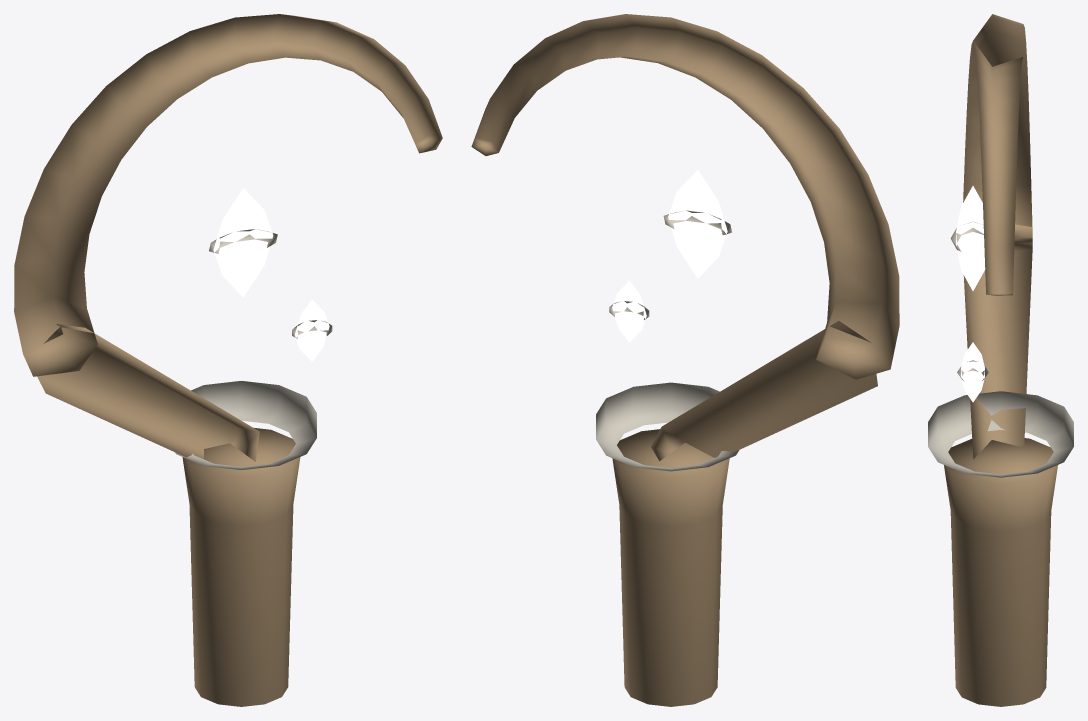
File: head_uncommon.glb
3 views of the same model, side by side, from view 1: azimuth 30°, elevation 25°; view 2: azimuth 150°, elevation 25°; view 3: azimuth 270°, elevation 25° (orthographic). The views are drawn at different scales.
Parts seen in each view (by area): view 1: head_uncommon; view 2: head_uncommon; view 3: head_uncommon.
Boxes of the visible parts, left/top/right/bottom form: head_uncommon: left=14, top=14, right=442, bottom=706; head_uncommon: left=471, top=14, right=899, bottom=706; head_uncommon: left=928, top=14, right=1073, bottom=706.
Size of the model in its own units: 0.3381 by 0.5117 by 0.1044.
